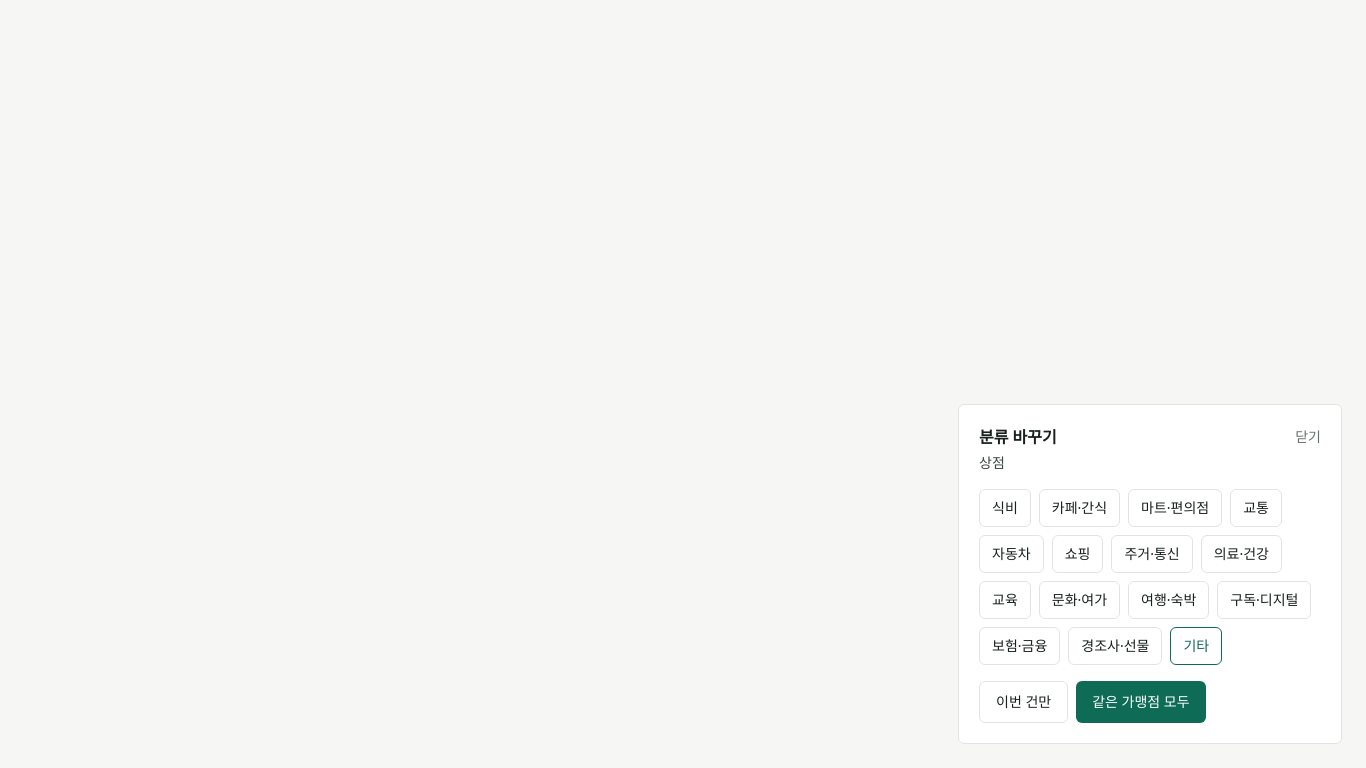
Scenario: CategorySheet › sends 이번 건만 scope
Click the button "식비". click: (1005, 508)
box: top-left (979, 489), bottom-right (1031, 527)
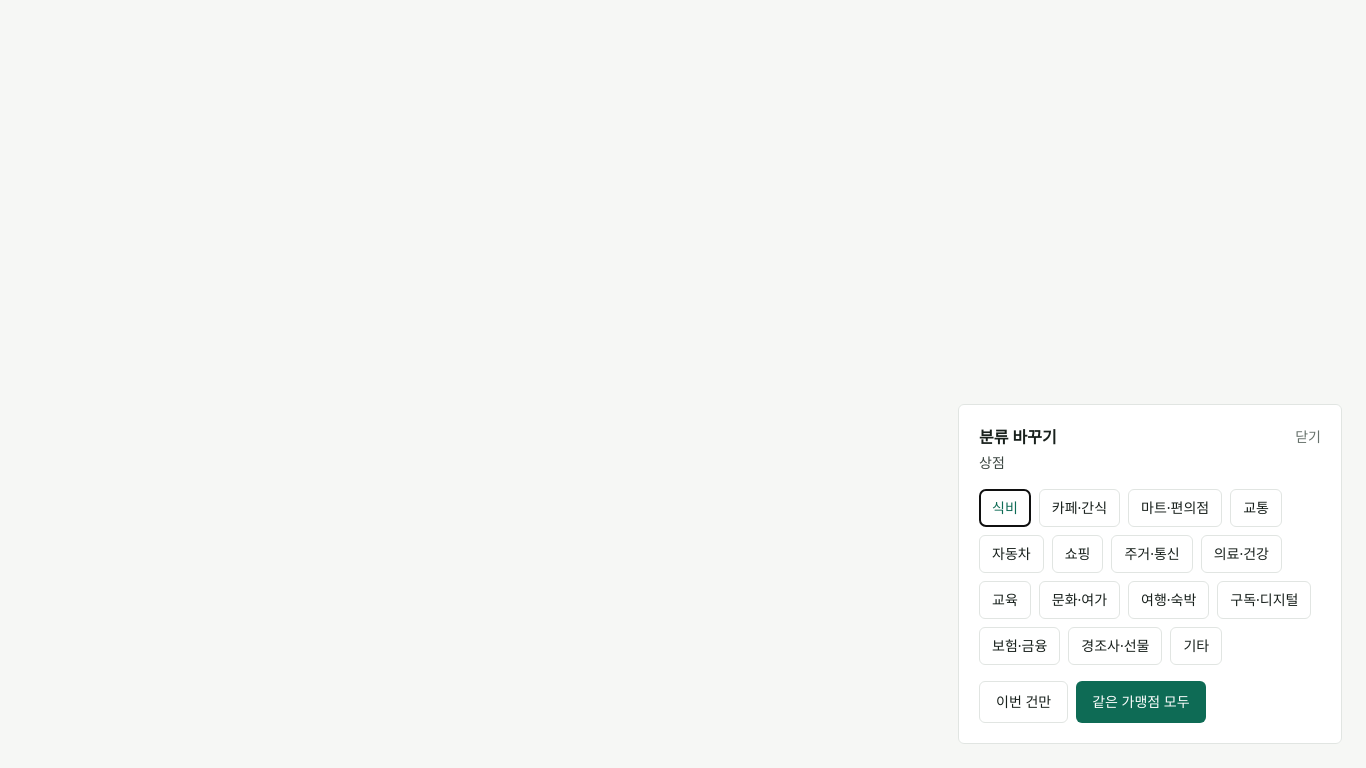
Click the button "이번 건만". click: (1024, 702)
box: top-left (979, 681), bottom-right (1068, 723)
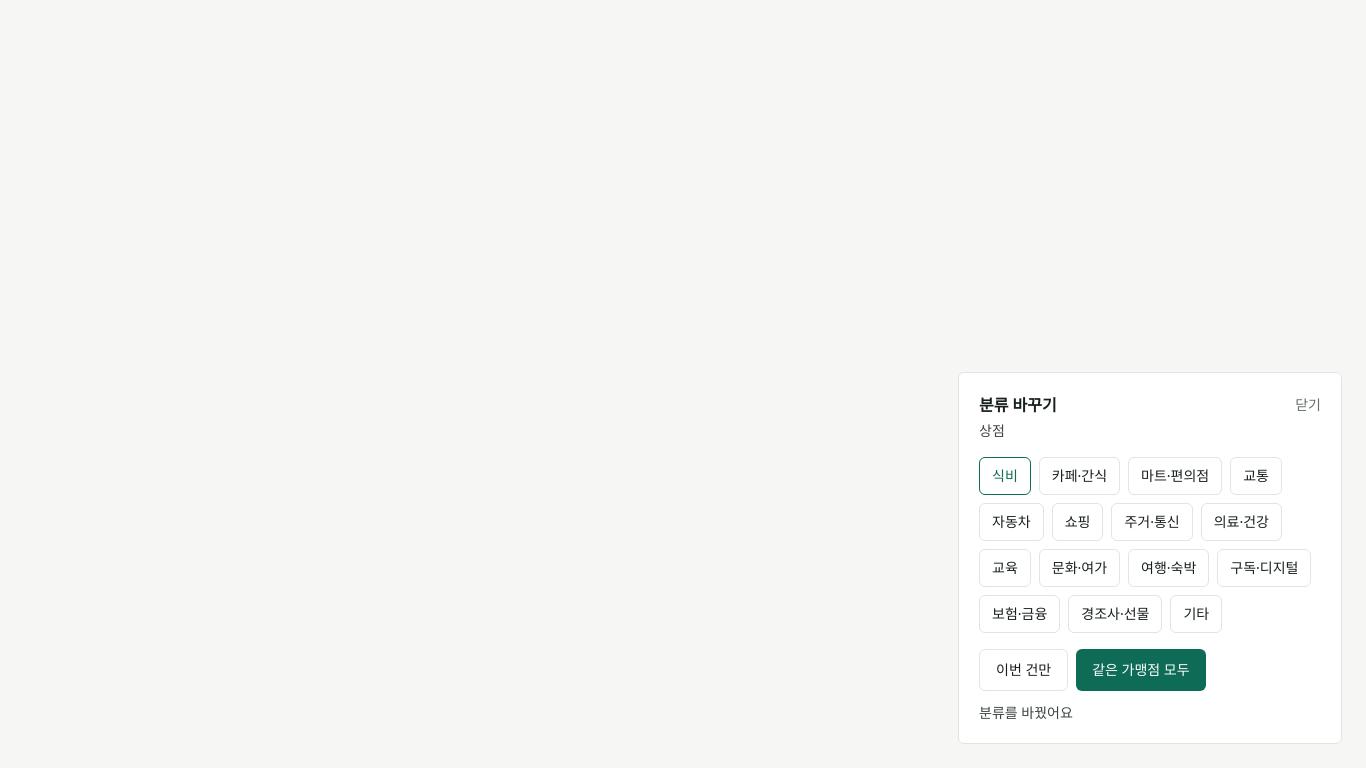
Expected: the message reads "분류를 바꿨어요", top-left (979, 703), bottom-right (1073, 722)
